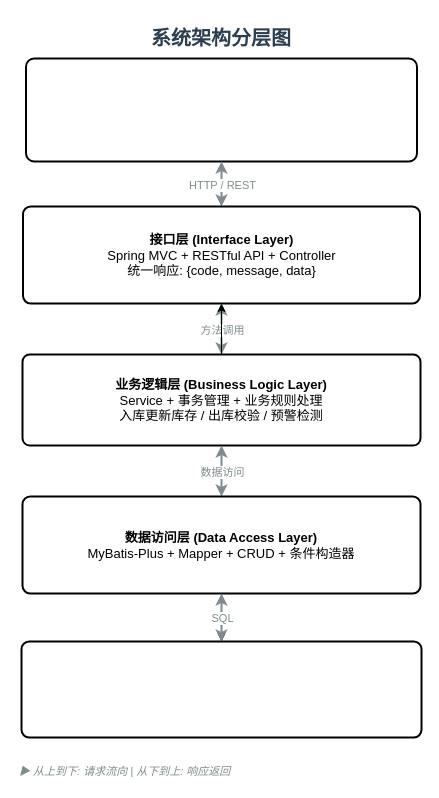
Image size: 439x798. Some labels were removed from this diagram. Here are the shapes that lost their labels. From the top down, the centre of each, then its label:
(x=221, y=109): 表现层 (Presentation Layer) Vue 3 + Element Plus + ECharts + Axios + Pinia
(x=221, y=689): 数据存储层 (Data Storage Layer) MySQL 8.0 + 索引优化 + 事务管理
